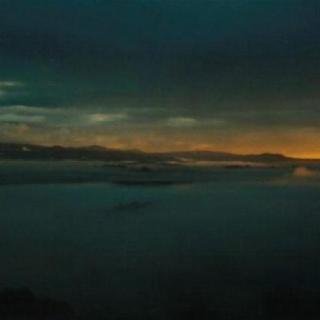Nimbostratus: (5, 0, 320, 149)
